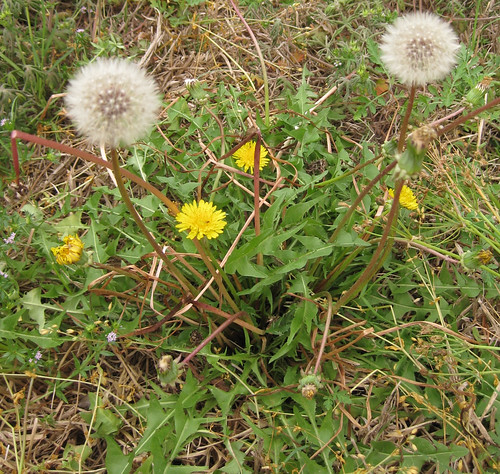dandelion: (183, 196, 222, 241), (378, 179, 420, 208), (229, 143, 275, 167), (48, 247, 86, 261)
